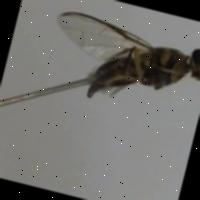Oriental-fruit-fly: (31, 0, 200, 136)
